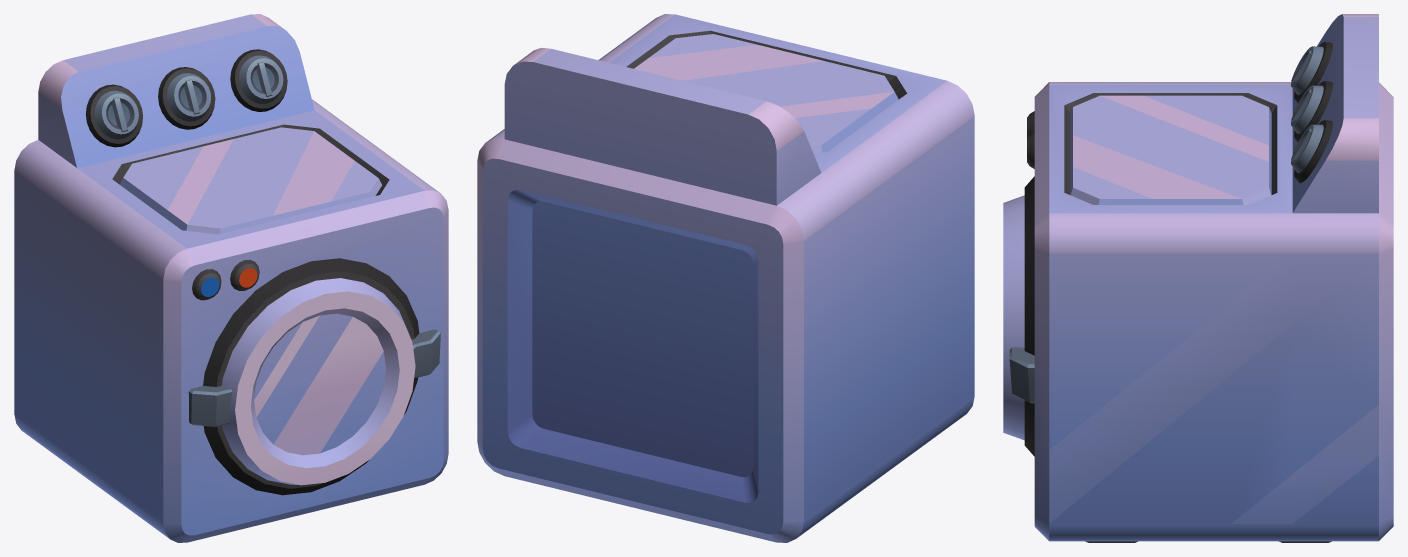
Rendered from laundry.fbx.
3 views of the same model, side by side, from view 1: azimuth 30°, elevation 25°; view 2: azimuth 150°, elevation 25°; view 3: azimuth 270°, elevation 25° (orthographic). The views are drawn at different scales.
Parts seen in each view (by area): view 1: laundry_machine, laundry_machine_door; view 2: laundry_machine; view 3: laundry_machine, laundry_machine_door.
Boxes of the visible parts, x1,y1,x2,y2 form: laundry_machine: [14, 14, 448, 542]; laundry_machine_door: [222, 278, 415, 485]; laundry_machine: [477, 14, 974, 542]; laundry_machine: [1009, 14, 1393, 542]; laundry_machine_door: [1003, 195, 1024, 440].
Bounding box in the file's own units: 86.17 × 110 × 92.19.
